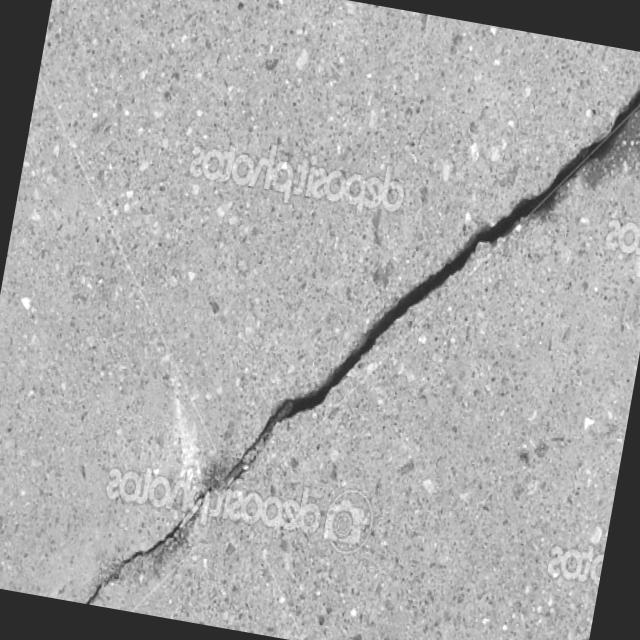crack: (342, 12, 640, 426), (87, 313, 347, 639)
